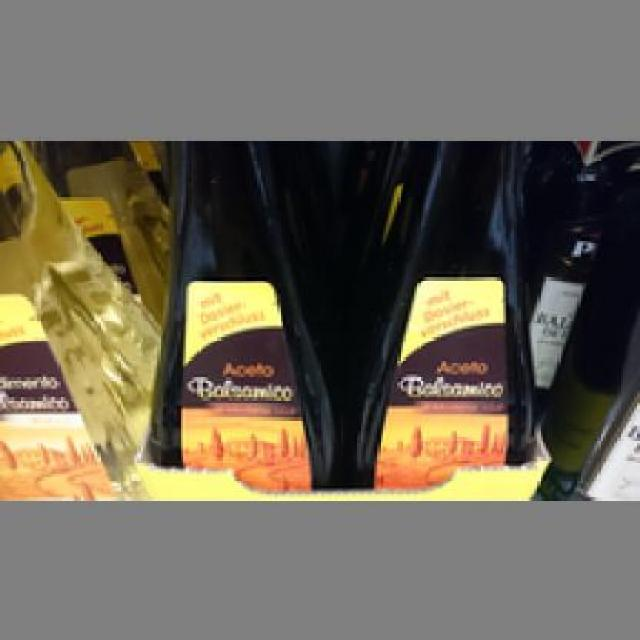Vinegar: (134, 137, 332, 480), (348, 137, 532, 494), (0, 137, 126, 494)
